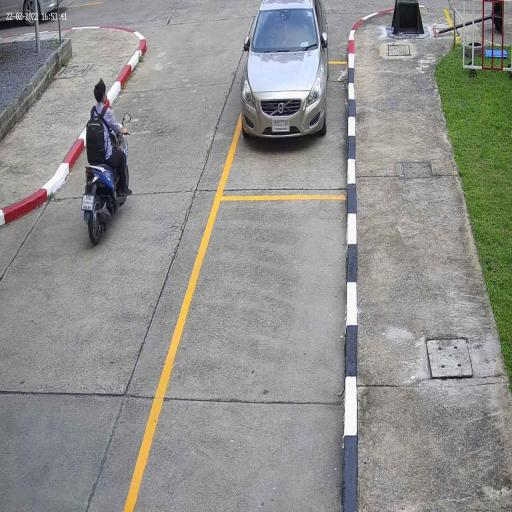car: (241, 0, 330, 144)
motorcycle: (82, 160, 130, 246)
